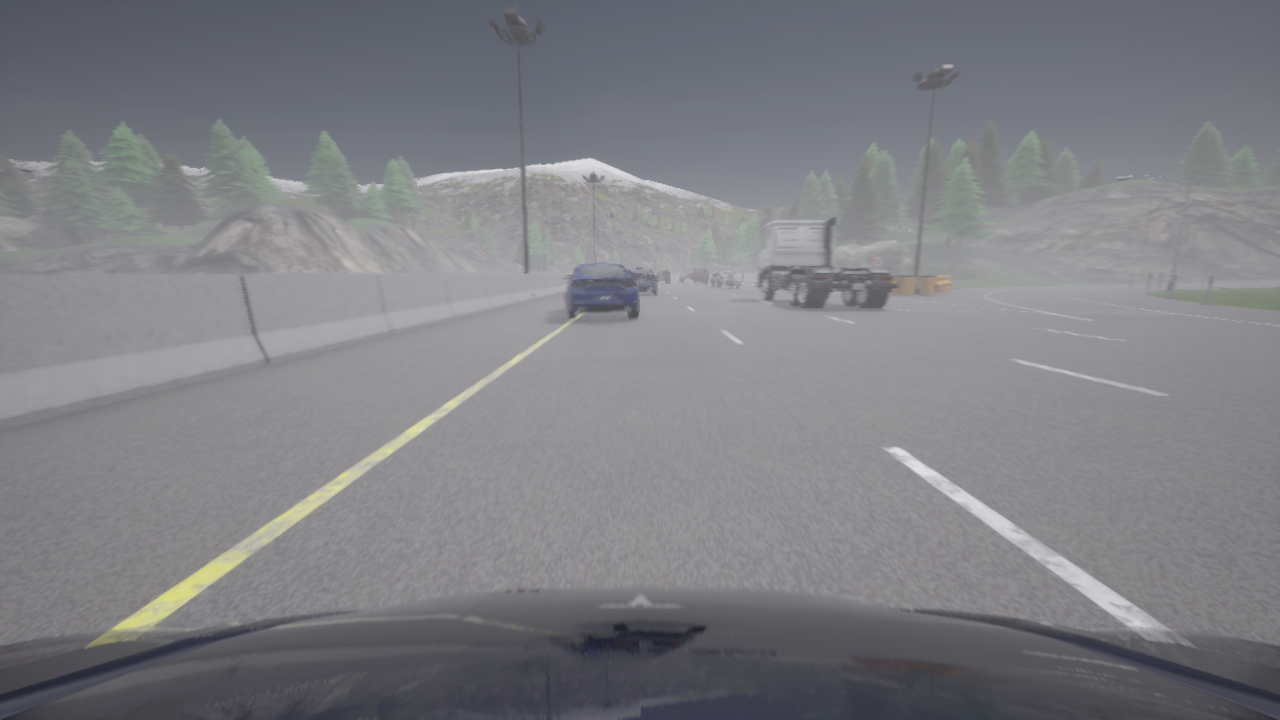cyclist: (0, 588, 1279, 719), (754, 227, 894, 286), (564, 261, 638, 318), (628, 268, 657, 294), (710, 270, 740, 287), (690, 268, 706, 278), (681, 271, 696, 281), (656, 272, 669, 280)
